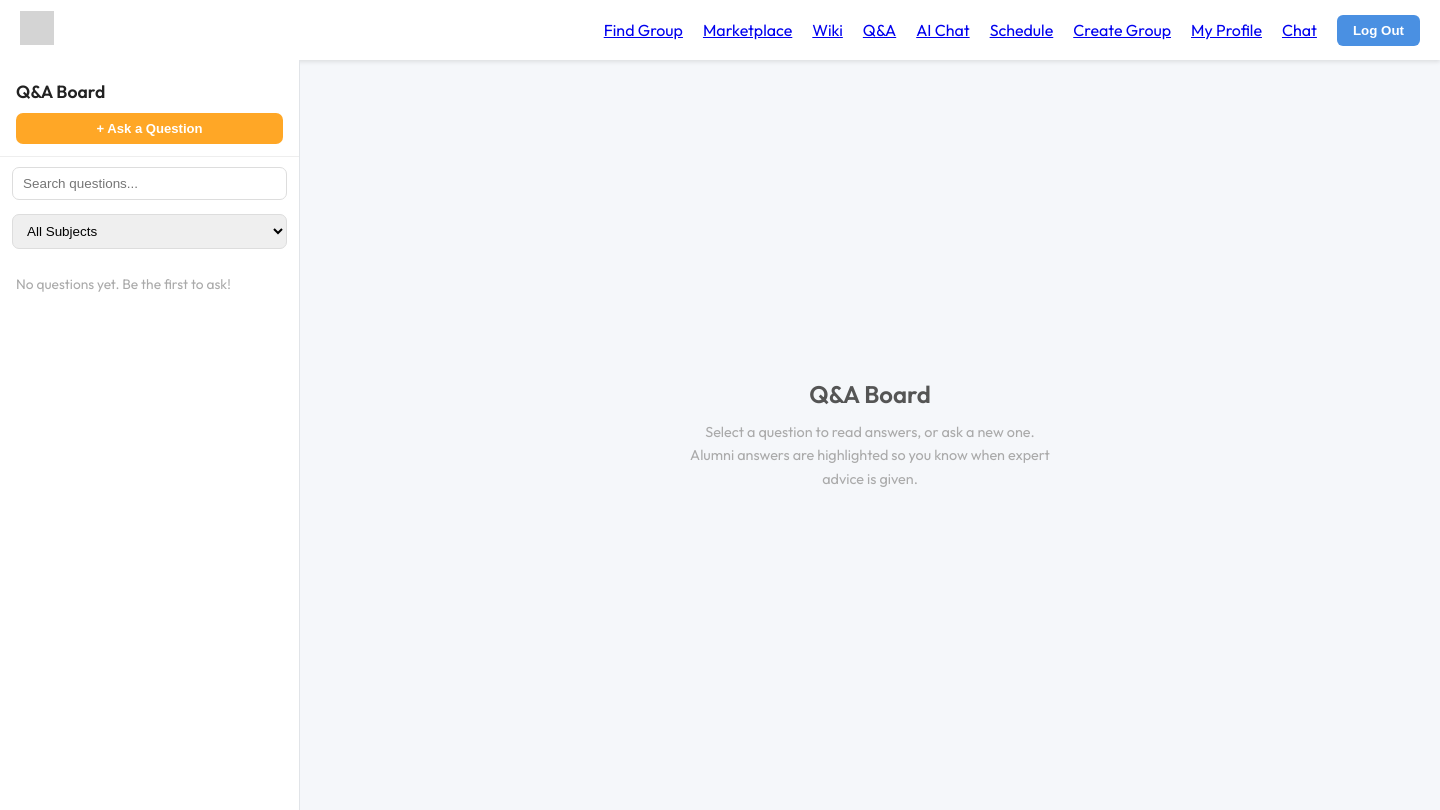
QABoard page › AI Suggest button is enabled when body has content
The image size is (1440, 810).
Click the button "+ Ask a Question": (150, 128) [16, 113, 283, 144]
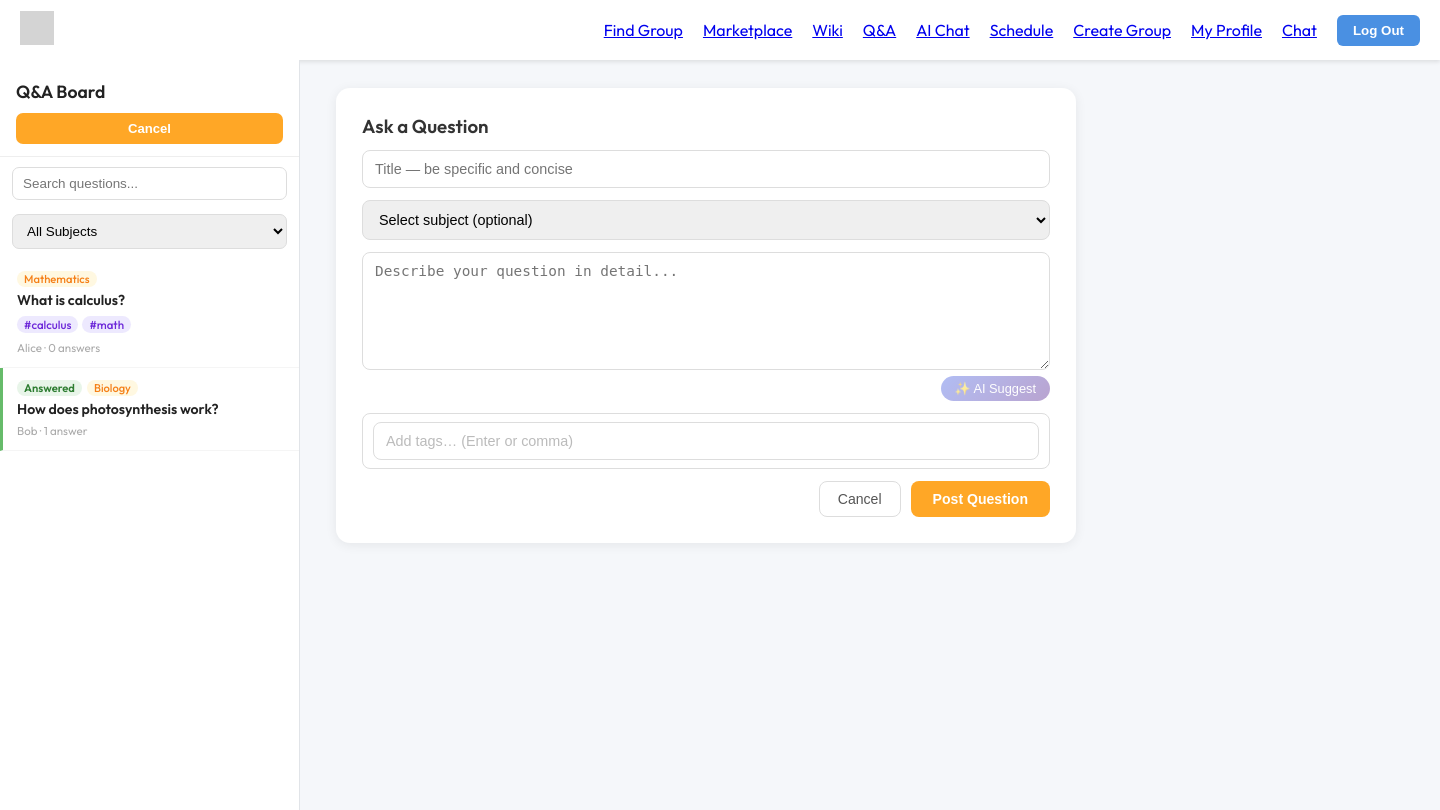
In the text box with placeholder "Describe your question in detail...": (706, 311) [362, 252, 1050, 370], type "How do derivatives work in calculus?"
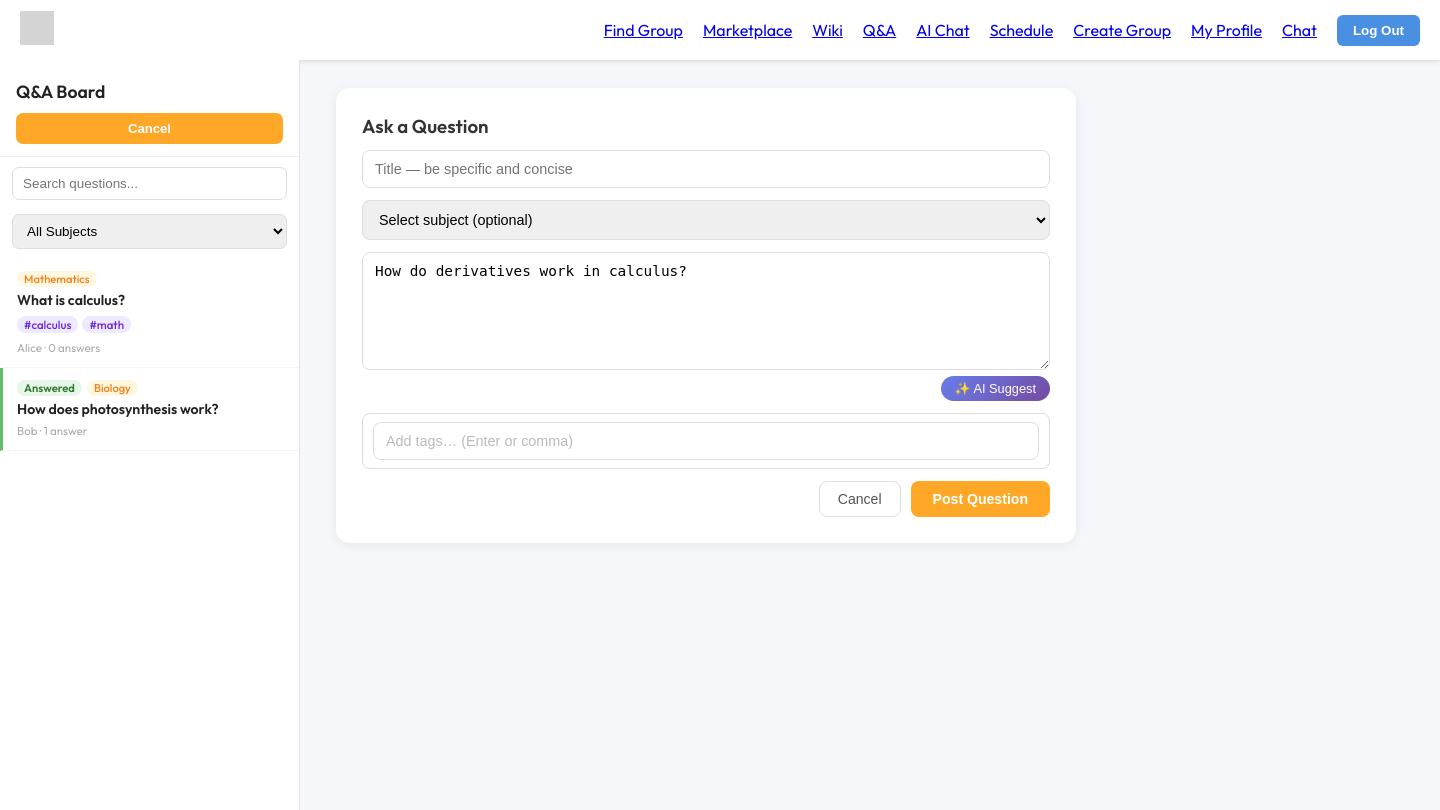
Expected: the button titled "auto-suggest" is enabled, [941, 376, 1050, 401]
